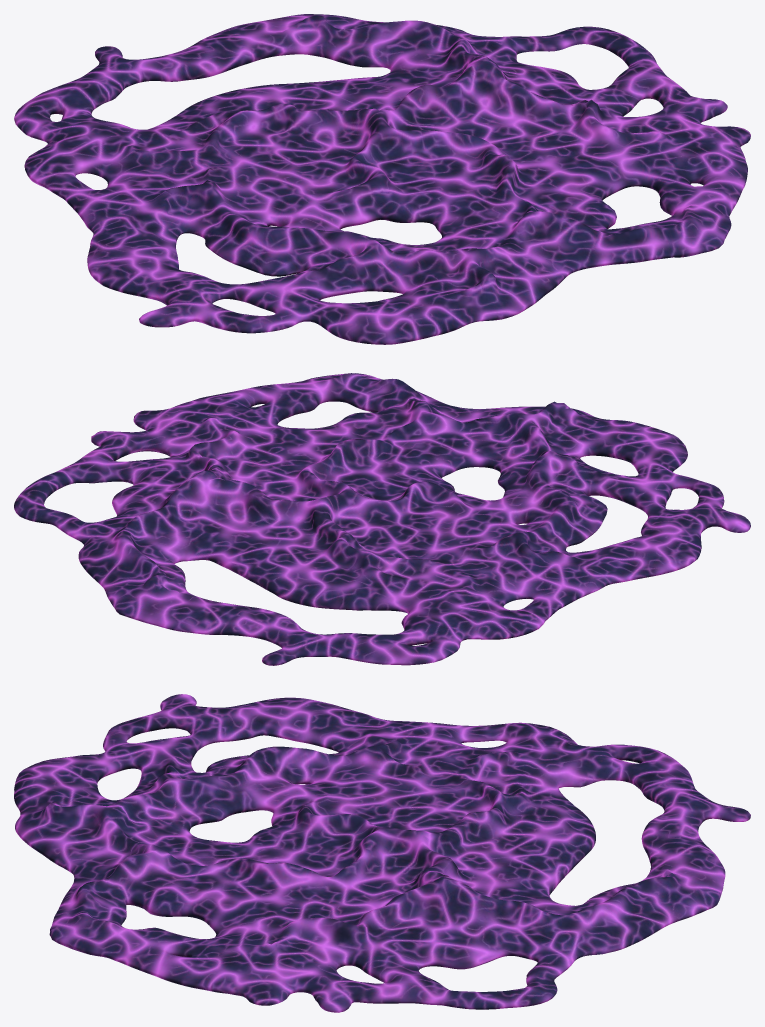
The model's file is caos_stl_chaosgrowth_01b_v35.glb.
3 renders of one model, top to bottom at view 1: azimuth 30°, elevation 25°; view 2: azimuth 150°, elevation 25°; view 3: azimuth 270°, elevation 25°, orthographic. The views are drawn at different scales.
Parts seen in each view (by area): view 1: caos_stl_chaosgrowth_01b; view 2: caos_stl_chaosgrowth_01b; view 3: caos_stl_chaosgrowth_01b.
Boxes of the visible parts, box(x1,y1,x2,y2) form: caos_stl_chaosgrowth_01b: box(14, 14, 750, 344); caos_stl_chaosgrowth_01b: box(14, 373, 750, 665); caos_stl_chaosgrowth_01b: box(14, 694, 750, 1012).
Size of the model in its own units: 14.71 by 1.05 by 14.54.
1 material, 1 textured.
